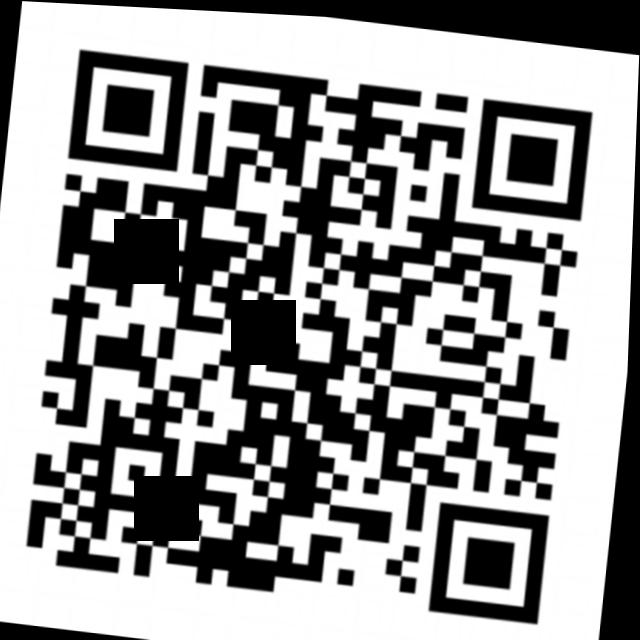QR_CODE: (8, 29, 612, 635)
